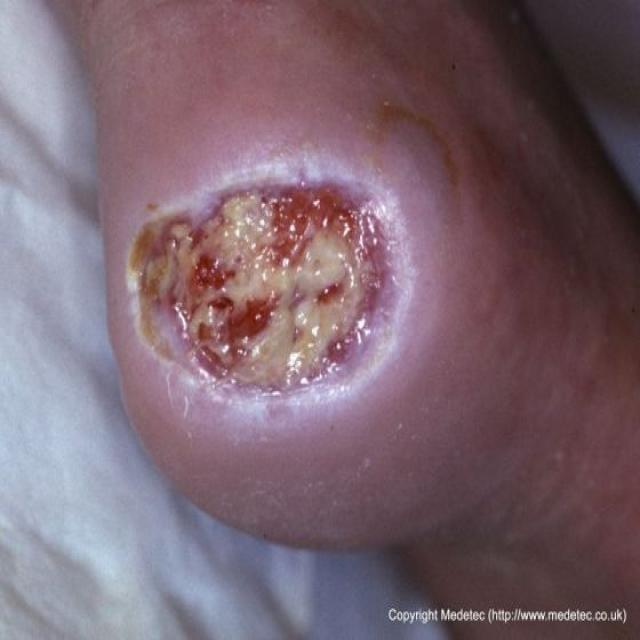stage-3: (129, 180, 409, 399)
